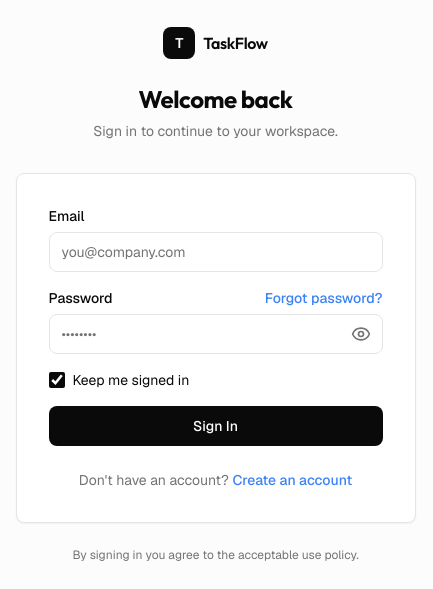
Scenario: LoginPage › puts a field error beside its own box
Type "sarah@taskflow.dev" into the field labelled "Email" at (216, 252), box [48, 232, 382, 272]
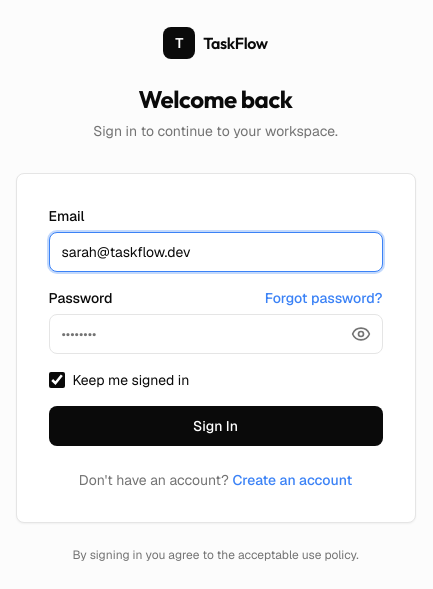
Type "wrong-password" into the password field labelled "Password" at (216, 334), box [48, 314, 382, 354]
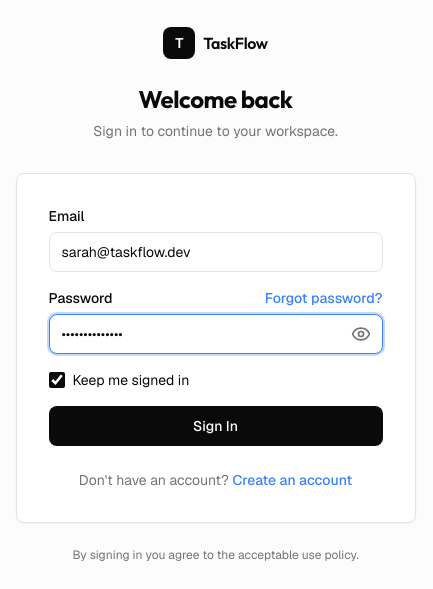
Click the button "Sign In" at (216, 426), box [48, 406, 382, 446]
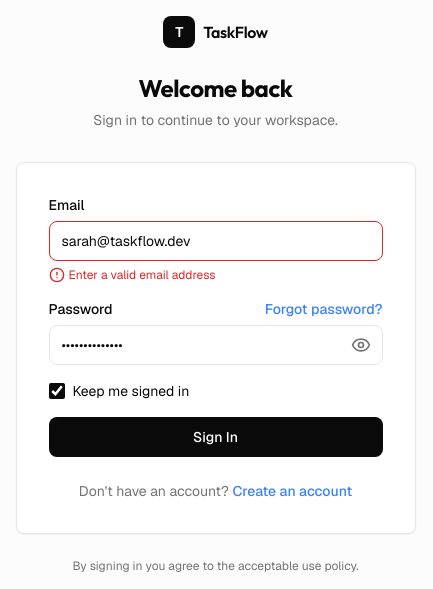
Expected: the text "Enter a valid email address" is shown, [48, 267, 216, 283]
